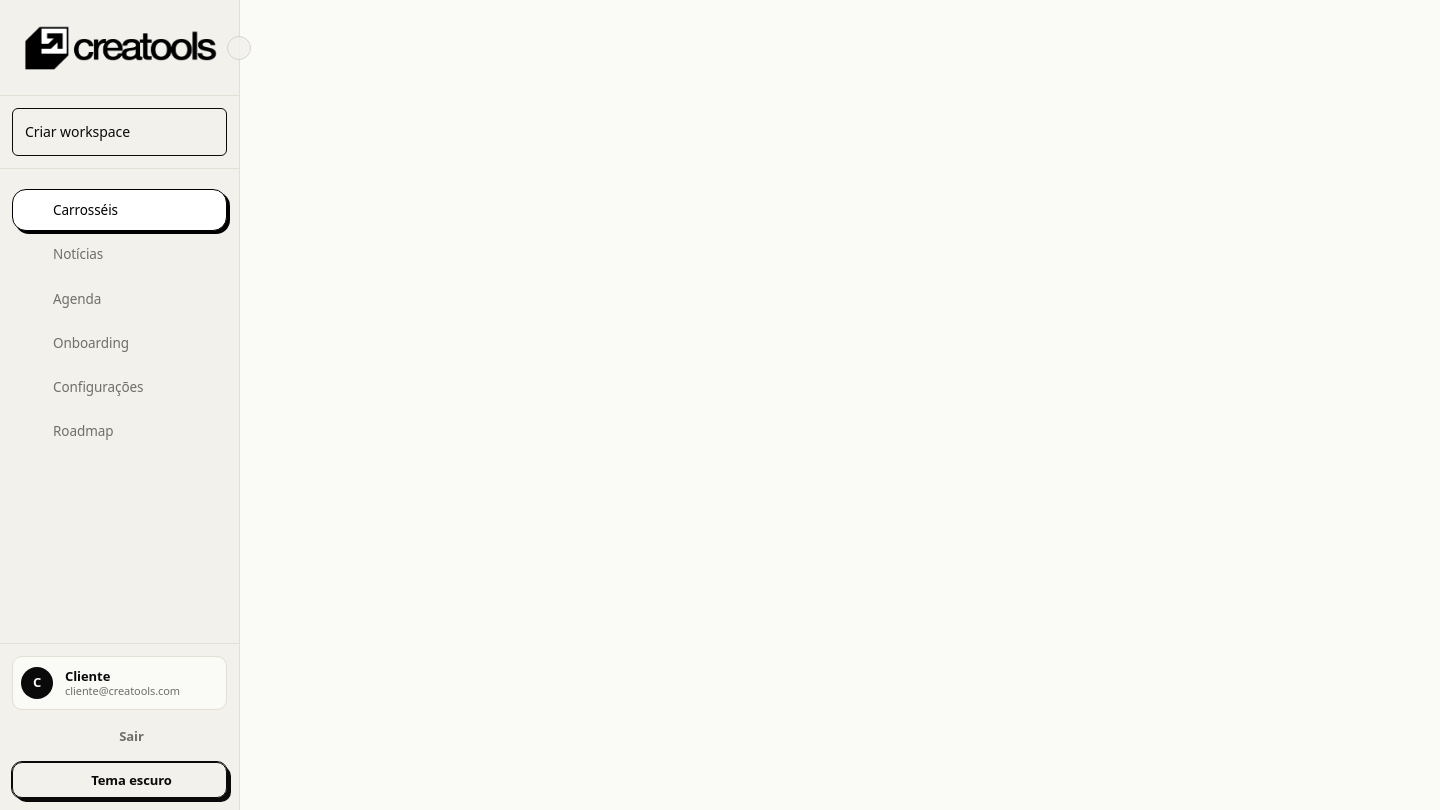
Test: troca de workspace na sidebar › mantém uma ação acessível quando a conta ainda não tem workspace
This screenshot has width=1440, height=810.
Click the button with test id "workspace-switcher-trigger". click: (120, 132)
box: [12,108,227,156]
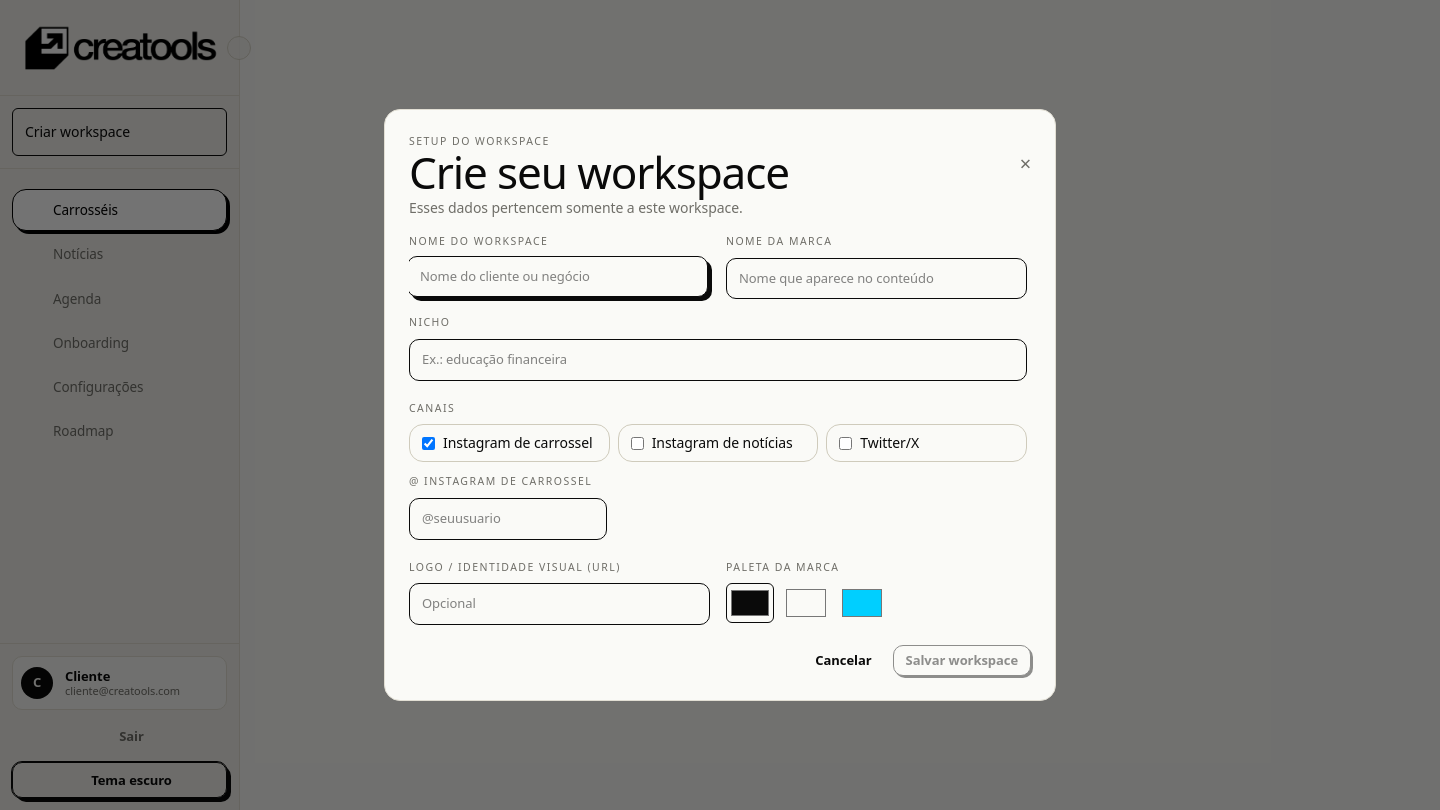
Result: the element with test id "workspace-create-modal" is shown
